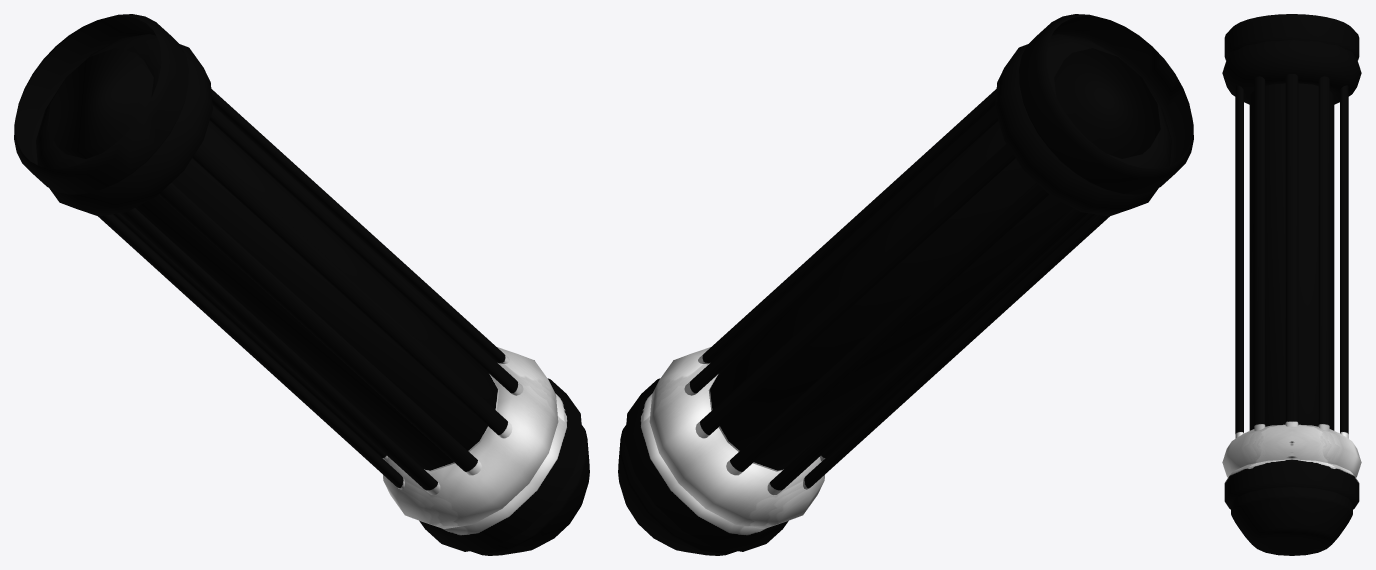
File: boss_weak_close.fbx
3 views of the same model, side by side, from view 1: azimuth 30°, elevation 25°; view 2: azimuth 150°, elevation 25°; view 3: azimuth 270°, elevation 25° (orthographic). The views are drawn at different scales.
Visible parts, largest first — view 1: pasted__pCylinder46; view 2: pasted__pCylinder46; view 3: pasted__pCylinder46.
Part boxes in pixels (<box>): pasted__pCylinder46: <box>14,14,589,555</box>; pasted__pCylinder46: <box>618,14,1193,555</box>; pasted__pCylinder46: <box>1222,14,1361,555</box>.
Bounding box in the file's own units: 2.56 × 2.72 × 0.818.
1 material, 1 textured.
